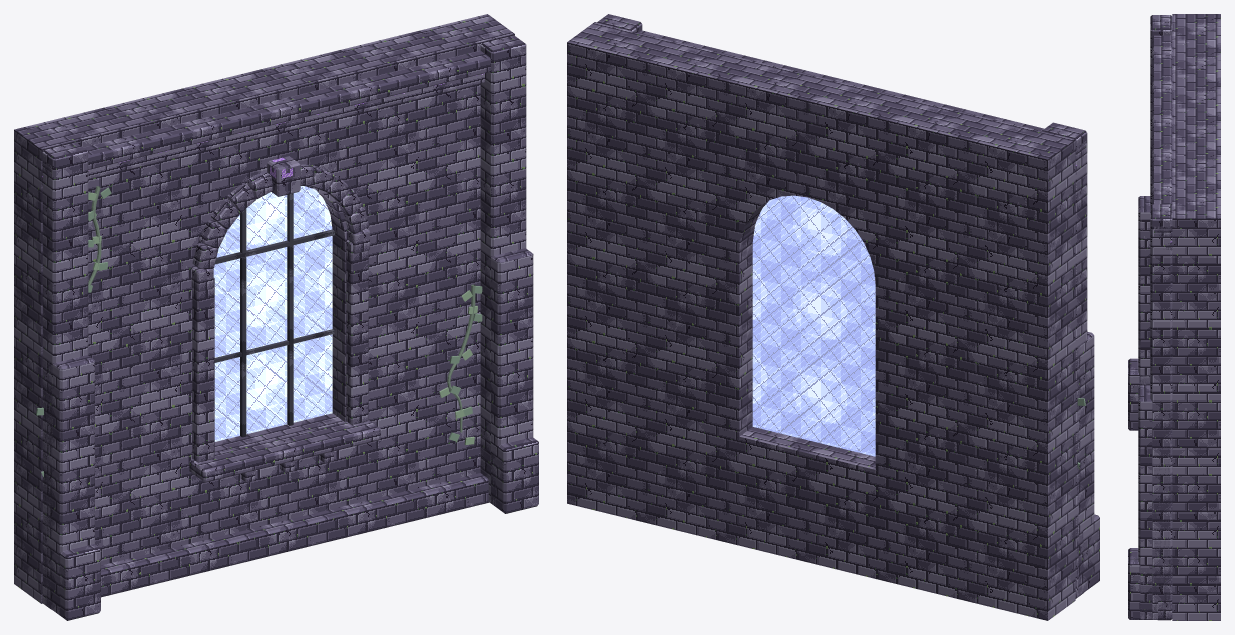
The model's file is tower_wall_bay.glb.
3 renders of one model, left to right at view 1: azimuth 30°, elevation 25°; view 2: azimuth 150°, elevation 25°; view 3: azimuth 270°, elevation 25°, orthographic. The views are drawn at different scales.
Parts seen in each view (by area): view 1: TowerWallBay; view 2: TowerWallBay; view 3: TowerWallBay.
Boxes of the visible parts, left/top/right/bottom form: TowerWallBay: left=14, top=14, right=538, bottom=620; TowerWallBay: left=567, top=14, right=1099, bottom=620; TowerWallBay: left=1128, top=14, right=1220, bottom=620.
Size of the model in its own units: 12.18 by 11 by 2.3.
7 materials, 4 textured.
